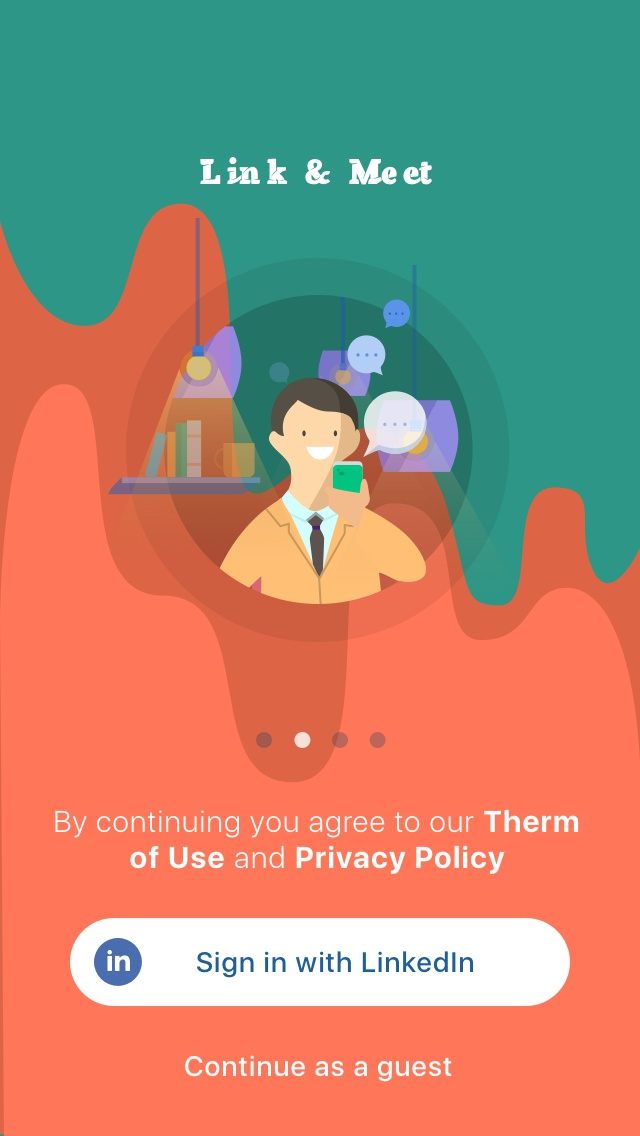BackgroundImage: (1, 1, 640, 1136)
PageIndicator: (255, 730, 388, 751)
Text: (54, 808, 580, 876), (184, 1055, 454, 1083), (200, 157, 434, 187)
TextButton: (70, 918, 571, 1007)
